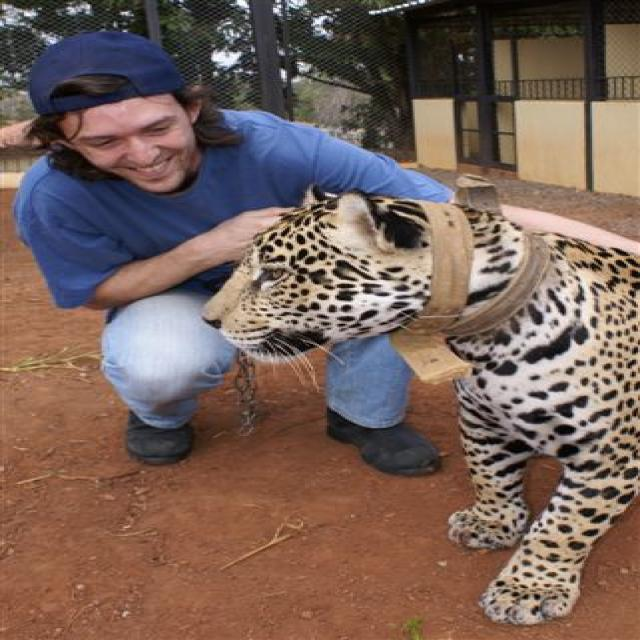Leopard: (191, 182, 634, 630)
